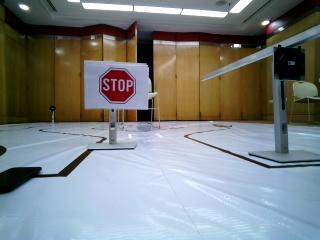stop: (91, 62, 143, 107)
